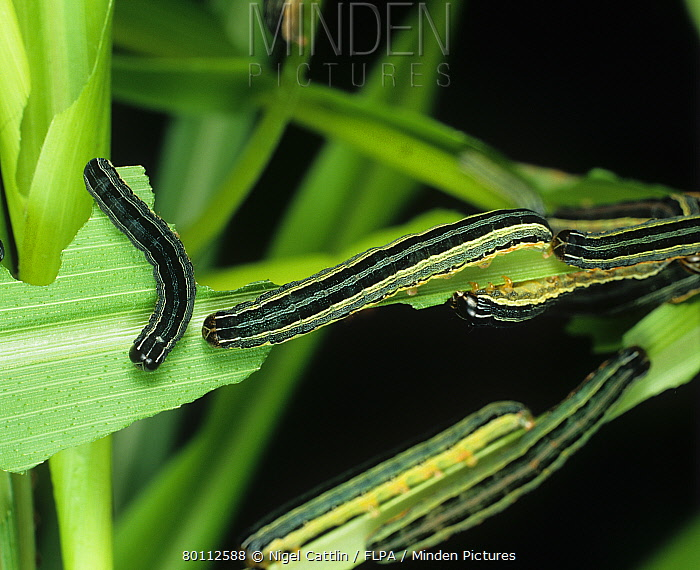Armyworm: (212, 183, 556, 361), (249, 387, 540, 567), (73, 145, 190, 368), (555, 210, 688, 282)
